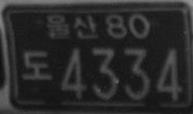0: (128, 13, 150, 38)
3: (123, 47, 150, 100), (92, 47, 117, 100)
4: (59, 47, 87, 101), (156, 47, 182, 101)
8: (105, 13, 127, 39)
도: (23, 50, 52, 79)
울산_O: (45, 14, 97, 38)
